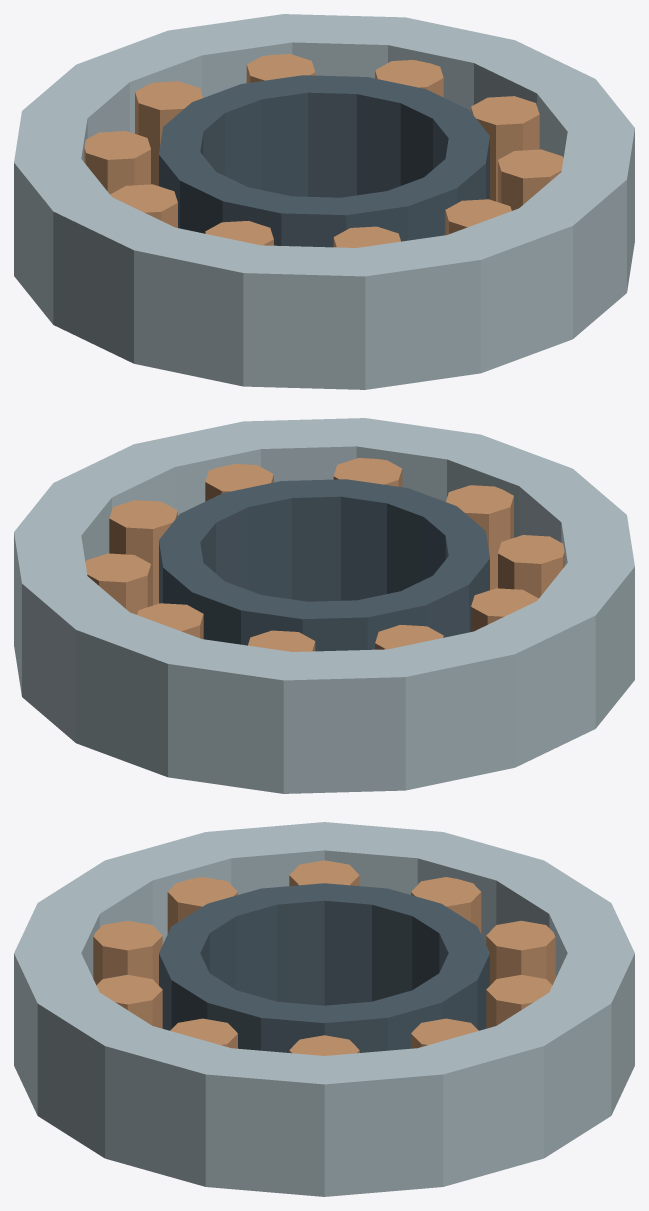
File: roller-bearing.glb
3 renders of one model, top to bottom at view 1: azimuth 30°, elevation 25°; view 2: azimuth 150°, elevation 25°; view 3: azimuth 270°, elevation 25°, orthographic.
Parts seen in each view (by area): view 1: steel, dark, copper; view 2: steel, dark, copper; view 3: steel, dark, copper.
Boxes of the visible parts, <box> form: steel: <box>14,14,634,389</box>; dark: <box>159,75,489,247</box>; copper: <box>84,54,563,247</box>; steel: <box>14,418,634,793</box>; dark: <box>159,479,489,651</box>; copper: <box>85,458,564,651</box>; steel: <box>14,822,634,1196</box>; dark: <box>159,883,489,1052</box>; copper: <box>93,860,555,1055</box>.
Bounding box in the file's own units: 0.6 × 0.12 × 0.6.
